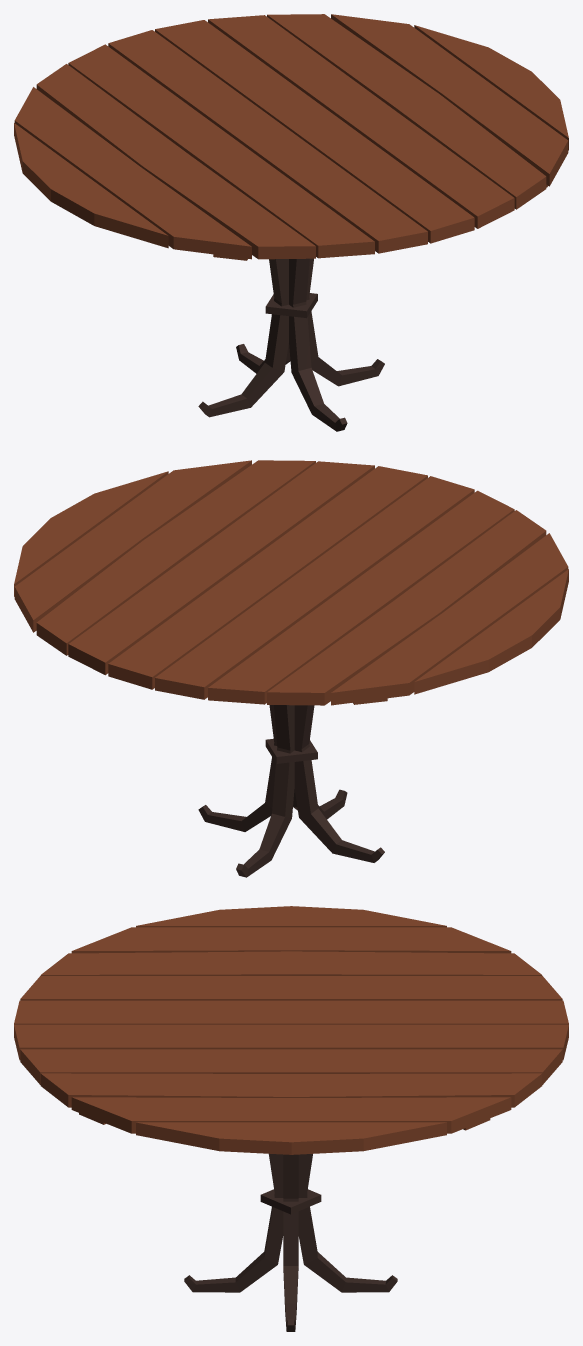
Rendered from village_pack_table_3.glb.
3 views of the same model, one above another, from view 1: azimuth 30°, elevation 25°; view 2: azimuth 150°, elevation 25°; view 3: azimuth 270°, elevation 25° (orthographic).
Visible parts, largest first — view 1: table 3_iron 1_0; view 2: table 3_iron 1_0; view 3: table 3_iron 1_0.
Boxes of the visible parts, x1,y1,x2,y2 form: table 3_iron 1_0: (14,14,568,431); table 3_iron 1_0: (14,460,568,877); table 3_iron 1_0: (14,906,568,1331).
Size of the model in its own units: 1.11 by 0.5818 by 1.1.
